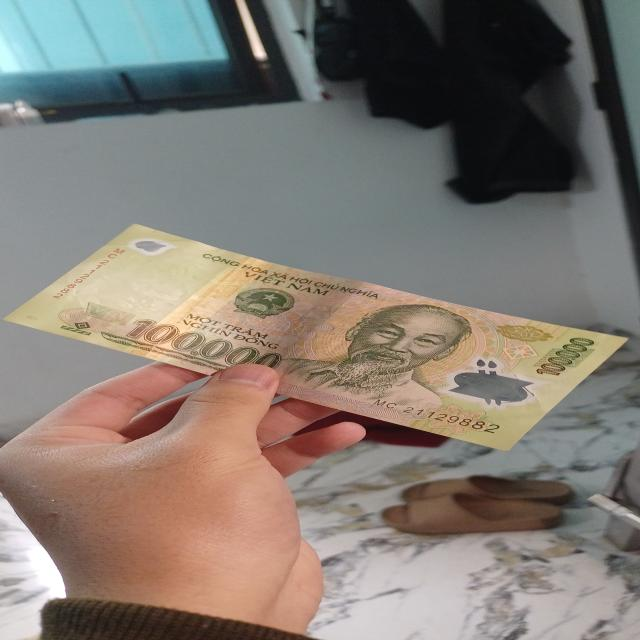100 000 VND: (6, 223, 629, 452)
